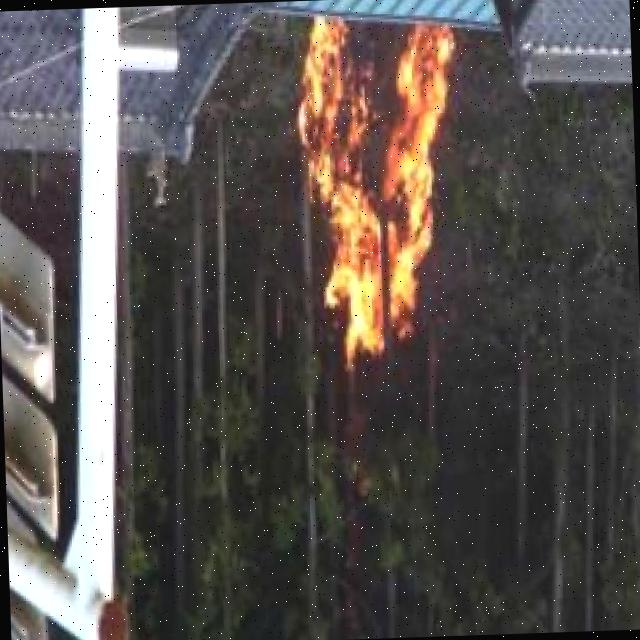fire: (272, 6, 468, 390)
